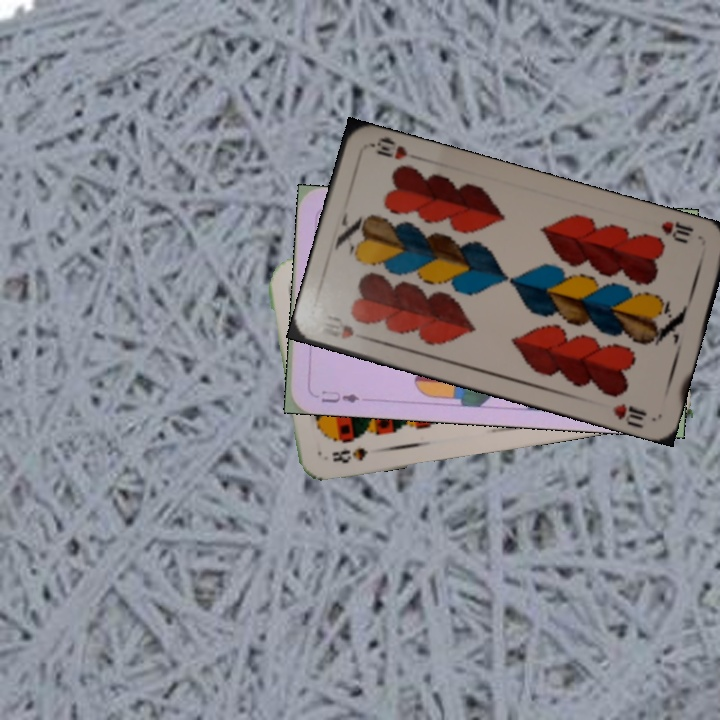EU: (317, 386, 362, 406)
H10: (314, 316, 374, 344), (656, 216, 697, 246)
S8: (327, 443, 371, 466)
